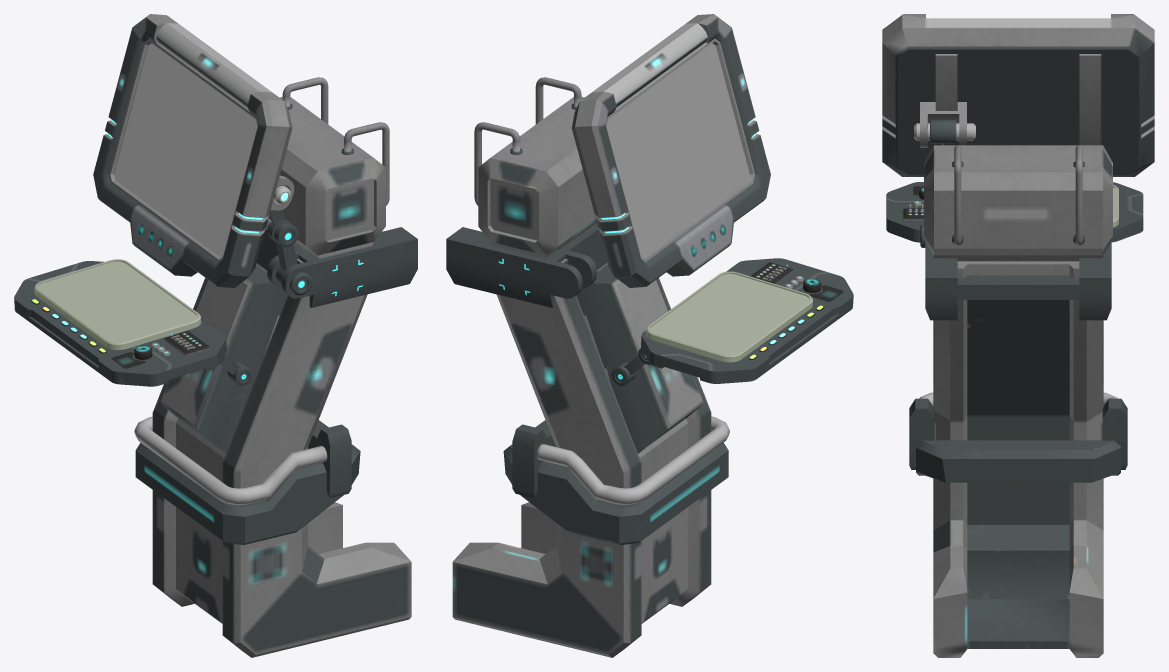
File: sci-fi_terminal.glb
The picture shows the model from 3 angles, left to right: view 1: azimuth 30°, elevation 25°; view 2: azimuth 150°, elevation 25°; view 3: azimuth 270°, elevation 25°; orthographic projection.
Parts seen in each view (by area): view 1: terminal, terminal.010, terminal.013, pultWarning_low001.002, terminal.003, hinge_bottom_low.006, terminal.007, terminal.006, terminal.004, Cylinder.005, terminal.002, terminal.001; view 2: terminal, terminal.010, terminal.013, pultWarning_low001.002, terminal.003, terminal.007, hinge_bottom_low.006, terminal.006, terminal.005, terminal.001, terminal.002, Cylinder.003; view 3: terminal, terminal.010, terminal.003, terminal.007, hinge_bottom_low.006, terminal.004, terminal.005, terminal.008, terminal.001, terminal.002, pultWarning_low001.002, Cylinder.006.
Part boxes in pixels (x1,y1,x2,y2): terminal: (152, 97, 411, 657); terminal.010: (93, 14, 292, 287); terminal.013: (114, 43, 257, 257); pultWarning_low001.002: (31, 259, 210, 368); terminal.003: (135, 420, 360, 544); hinge_bottom_low.006: (14, 261, 226, 386); terminal.007: (256, 223, 417, 307); terminal.006: (134, 416, 327, 504); terminal.004: (317, 424, 351, 497); Cylinder.005: (267, 221, 311, 295); terminal.002: (341, 122, 389, 205); terminal.001: (282, 77, 328, 123); terminal: (452, 97, 711, 657); terminal.010: (571, 14, 770, 287); terminal.013: (606, 43, 749, 257); pultWarning_low001.002: (646, 262, 843, 362); terminal.003: (503, 420, 728, 544); terminal.007: (446, 223, 607, 307); hinge_bottom_low.006: (641, 258, 853, 383); terminal.006: (537, 416, 729, 504); terminal.005: (512, 424, 546, 497); terminal.001: (474, 122, 522, 205); terminal.002: (535, 77, 581, 124); Cylinder.003: (611, 348, 650, 385); terminal: (924, 145, 1112, 657); terminal.010: (882, 14, 1154, 176); terminal.003: (916, 422, 1120, 482); terminal.007: (925, 240, 1111, 320); hinge_bottom_low.006: (886, 182, 1143, 242); terminal.004: (909, 398, 934, 469); terminal.005: (1102, 398, 1127, 469); terminal.008: (920, 102, 966, 147); terminal.001: (1073, 145, 1084, 245); terminal.002: (952, 145, 963, 245); pultWarning_low001.002: (902, 185, 1118, 227); Cylinder.006: (930, 120, 956, 145).
Bounding box in the file's own units: 0.2137 × 0.3775 × 0.1646.
2 materials, 1 textured.
